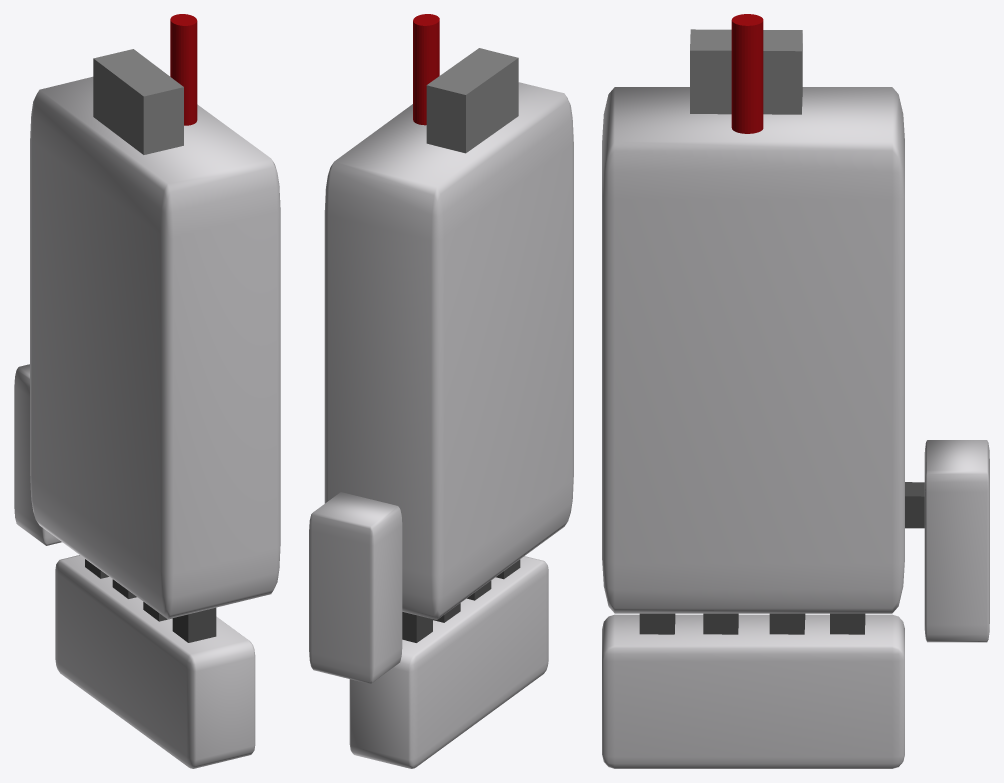
File: model_right_hand.fbx
3 views of the same model, side by side, from view 1: azimuth 30°, elevation 25°; view 2: azimuth 150°, elevation 25°; view 3: azimuth 270°, elevation 25° (orthographic). The views are drawn at different scales.
Parts seen in each view (by area): view 1: Cube.088, Cube.038, Cube.081, Cube.092, Cylinder.009, Cube.070; view 2: Cube.088, Cube.038, Cube.092, Cube.081, Cylinder.009, Cube.073; view 3: Cube.088, Cube.038, Cube.092, Cube.081, Cylinder.009, Cube.074, Cube.070, Cube.071, Cube.072, Cube.073.
Part boxes in pixels (<box>): Cube.088: <box>30,76,280,619</box>; Cube.038: <box>55,555,255,768</box>; Cube.081: <box>93,49,183,154</box>; Cube.092: <box>14,364,61,545</box>; Cylinder.009: <box>170,14,197,125</box>; Cube.070: <box>172,607,216,642</box>; Cube.088: <box>324,82,573,619</box>; Cube.038: <box>349,556,548,768</box>; Cube.092: <box>309,492,402,683</box>; Cube.081: <box>426,48,518,153</box>; Cylinder.009: <box>413,14,439,125</box>; Cube.073: <box>402,612,432,642</box>; Cube.088: <box>602,87,904,613</box>; Cube.038: <box>602,614,904,768</box>; Cube.092: <box>924,440,989,642</box>; Cube.081: <box>690,29,802,114</box>; Cylinder.009: <box>731,14,763,133</box>; Cube.074: <box>905,482,924,528</box>; Cube.070: <box>639,613,675,634</box>; Cube.071: <box>769,613,805,634</box>; Cube.072: <box>703,613,738,634</box>; Cube.073: <box>830,613,865,634</box>.
Size of the model in its own units: 37.13 by 207 by 97.3.
